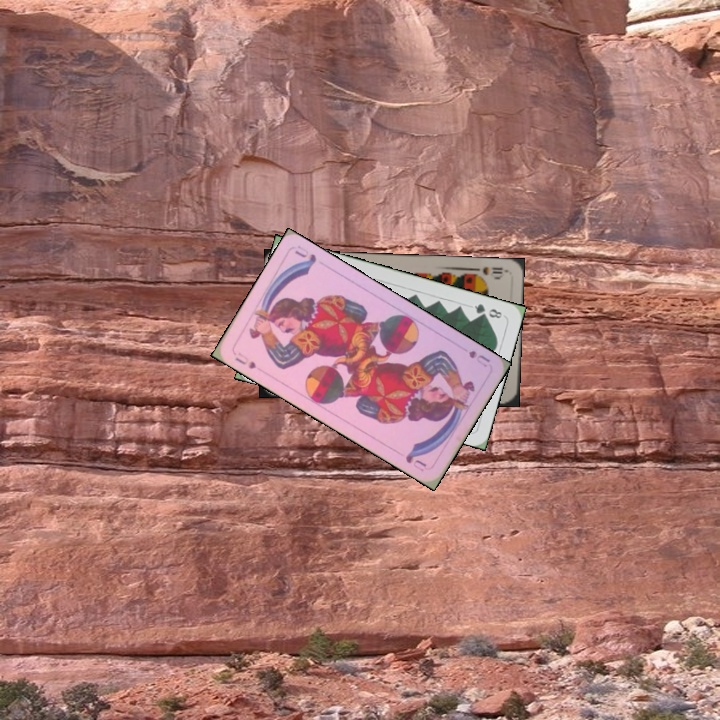G8: (470, 300, 505, 321)
S10: (467, 263, 508, 280)
SU: (464, 346, 493, 370), (231, 349, 259, 372)
